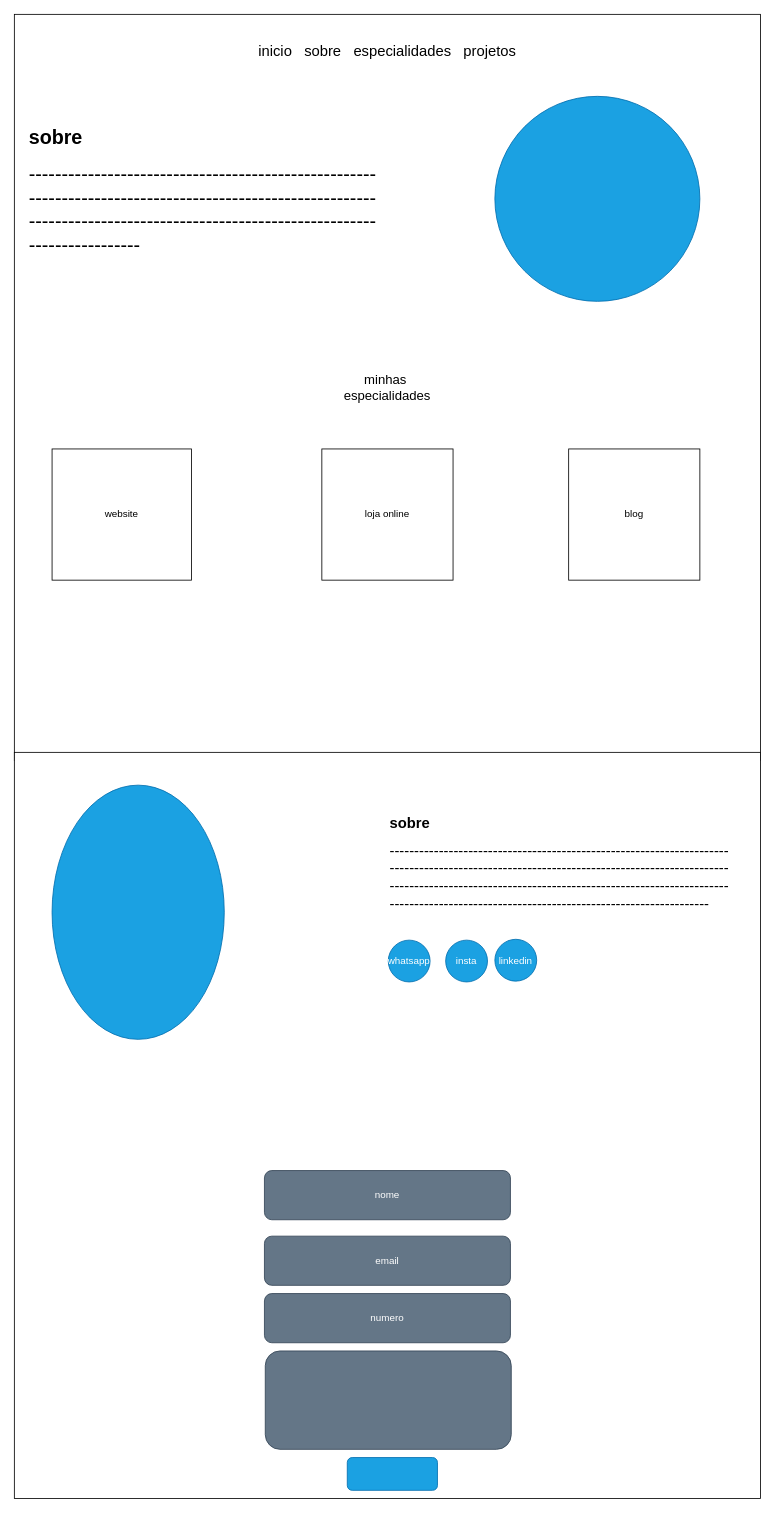
This 775x1513 diagram has some shape labels left out. The centre of each missing label's shape, as x and y in pixels:
"enviar" belongs at point (391, 1473).
"img" belongs at point (137, 911).
"img se mexe" belongs at point (597, 198).
"mensagem" belongs at point (387, 1399).
